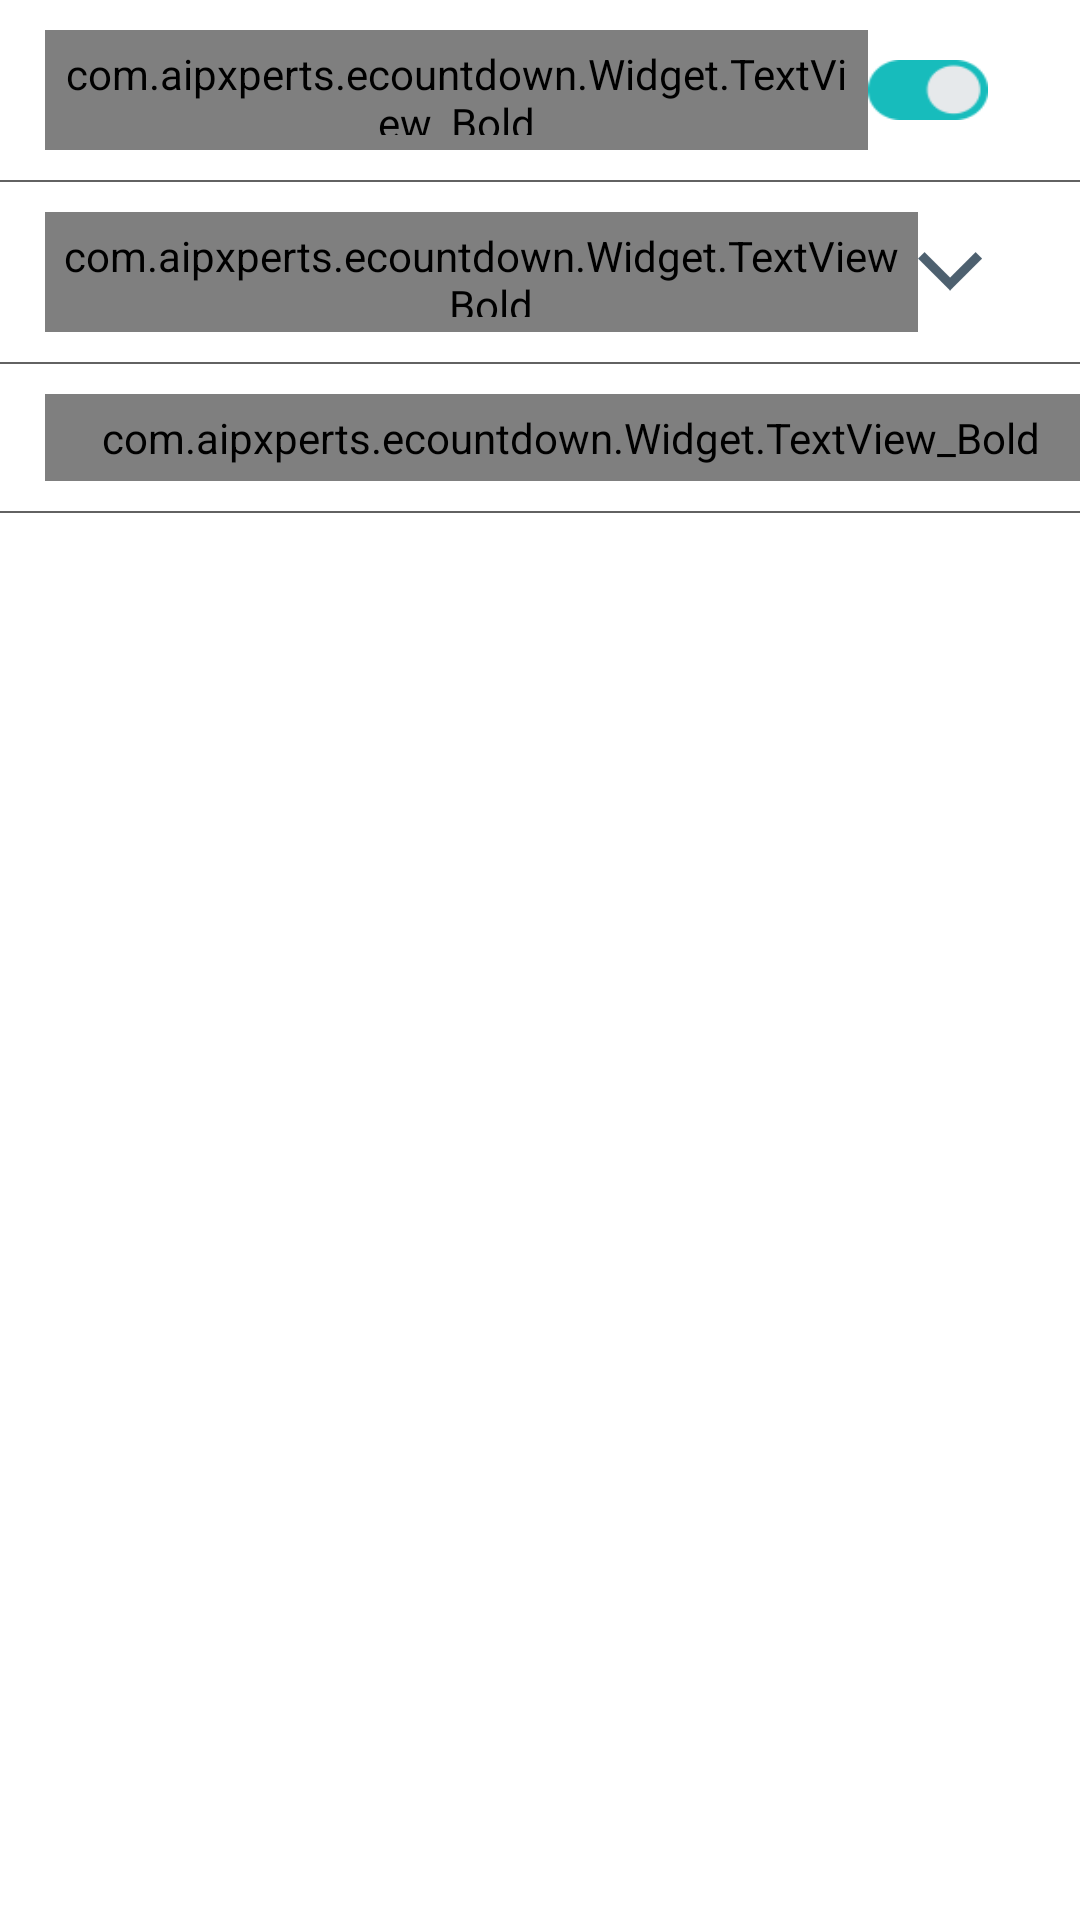

Where icons sit on this 1080px×1920px app screen, as bbox=[x1, y1, x2, y2]:
drop down: bbox=[918, 252, 982, 291]
